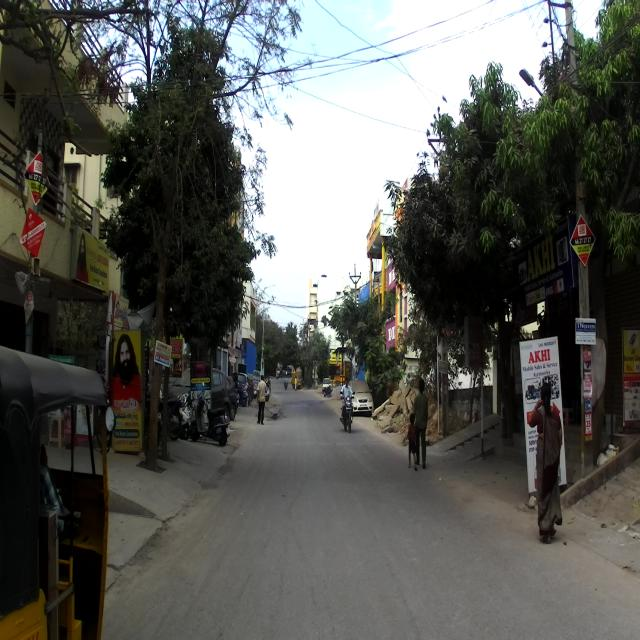auto ahead at: (0, 344, 116, 632)
person ahead at: (527, 376, 570, 549)
tree ahead at: (128, 176, 217, 473)
